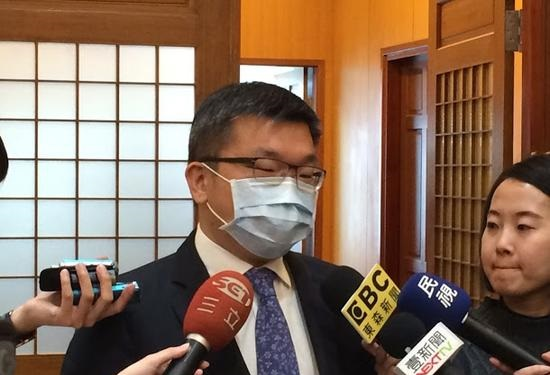face_mask: (213, 122, 312, 259), (481, 179, 549, 294)
